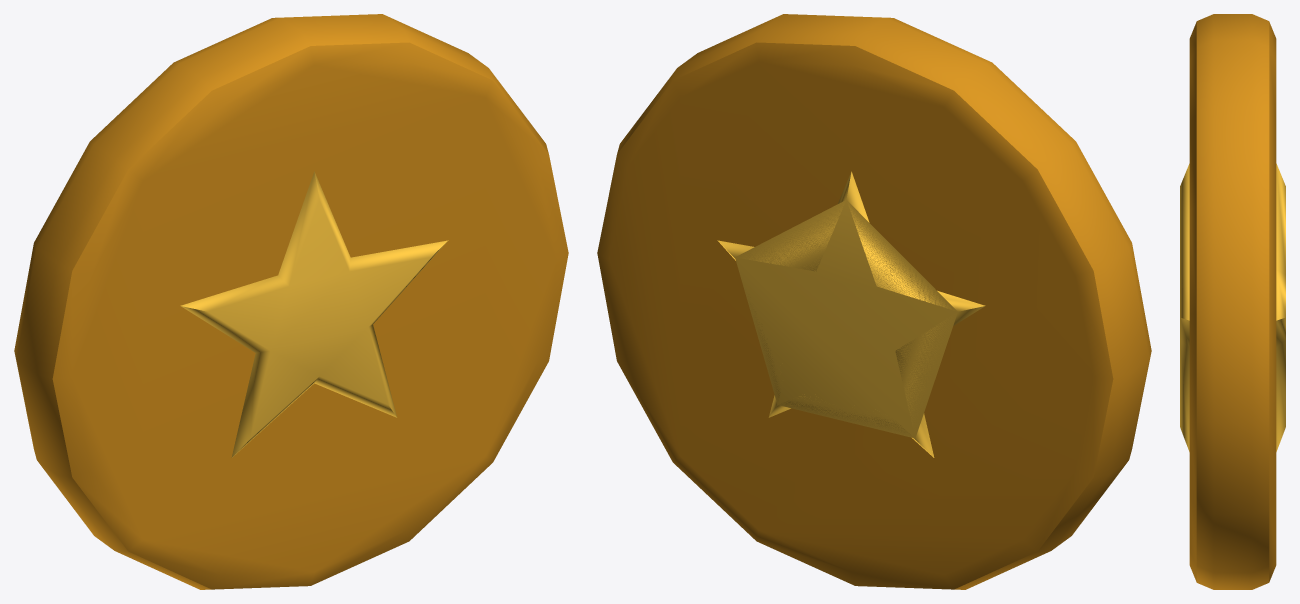
The model's file is Coin.fbx.
3 views of the same model, side by side, from view 1: azimuth 30°, elevation 25°; view 2: azimuth 150°, elevation 25°; view 3: azimuth 270°, elevation 25° (orthographic). The views are drawn at different scales.
Visible parts, largest first — view 1: Coin; view 2: Coin; view 3: Coin.
Boxes of the visible parts, x1,y1,x2,y2 form: Coin: (14, 14, 568, 589); Coin: (597, 14, 1151, 589); Coin: (1180, 14, 1285, 589).
Bounding box in the file's own units: 1.2 × 1.2 × 0.22.
Materials: 1 (1 with a texture image).
